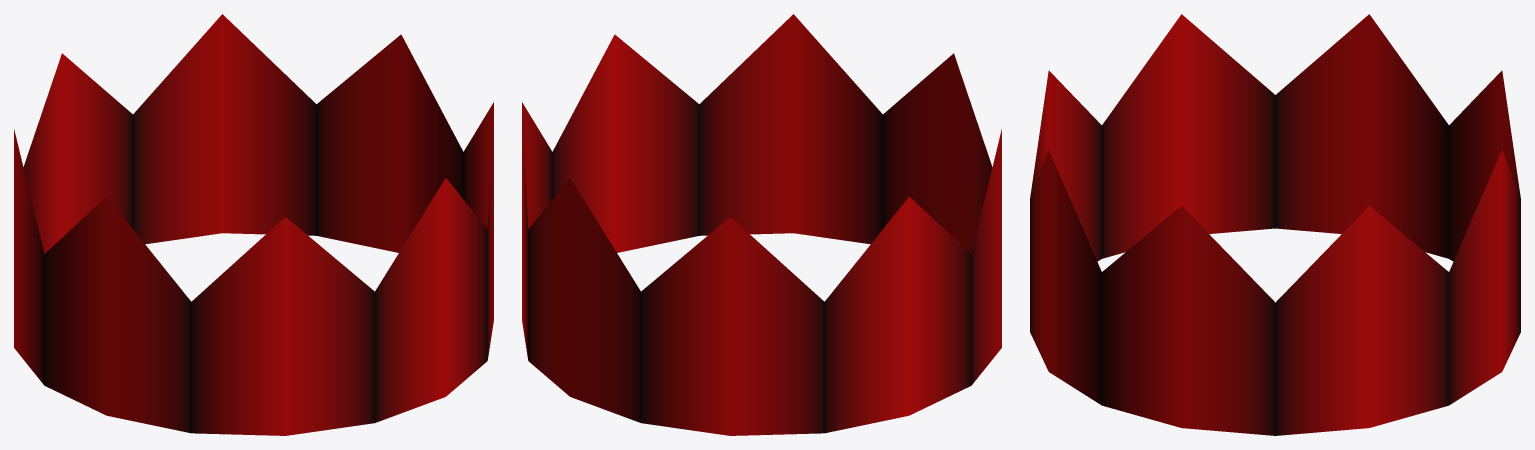
Rendered from SM_CapturePoints.fbx.
3 views of the same model, side by side, from view 1: azimuth 30°, elevation 25°; view 2: azimuth 150°, elevation 25°; view 3: azimuth 270°, elevation 25° (orthographic).
Parts seen in each view (by area): view 1: CapturePoint; view 2: CapturePoint; view 3: CapturePoint.
Part boxes in pixels (<box>): CapturePoint: <box>14,14,493,435</box>; CapturePoint: <box>522,14,1001,435</box>; CapturePoint: <box>1030,14,1520,435</box>.
Size of what is drawn, in the model's own units: 100 by 50 by 100.
